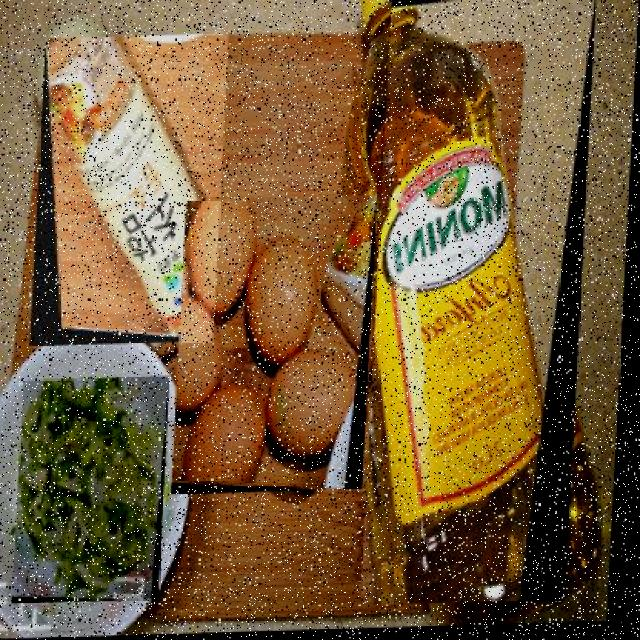Egg: (175, 197, 379, 497)
Onion Leaves: (17, 378, 174, 605)
